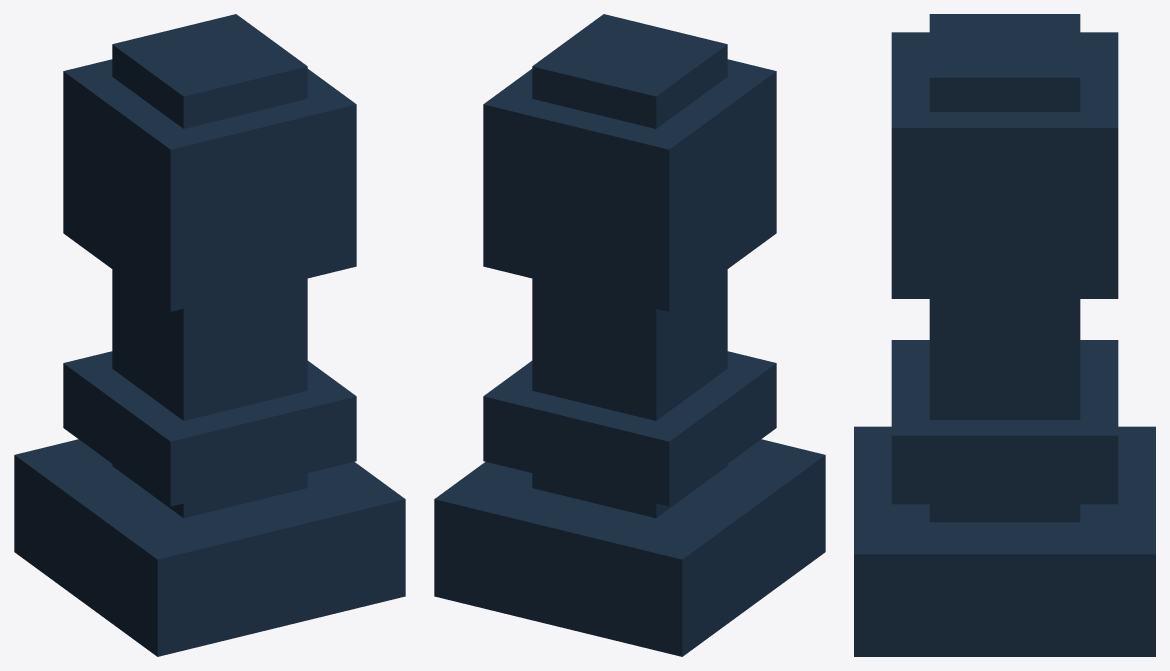
File: token-v2-blue.gltf
3 renders of one model, left to right at view 1: azimuth 30°, elevation 25°; view 2: azimuth 150°, elevation 25°; view 3: azimuth 270°, elevation 25°, orthographic. The views are drawn at different scales.
Parts seen in each view (by area): view 1: Untitled; view 2: Untitled; view 3: Untitled.
Part boxes in pixels (box(x1,y1,x2,y2)): Untitled: box(14, 14, 405, 656); Untitled: box(434, 14, 825, 656); Untitled: box(854, 14, 1155, 656).
Bounding box in the file's own units: 0.8 × 1.6 × 0.8.
1 material, 1 textured.
